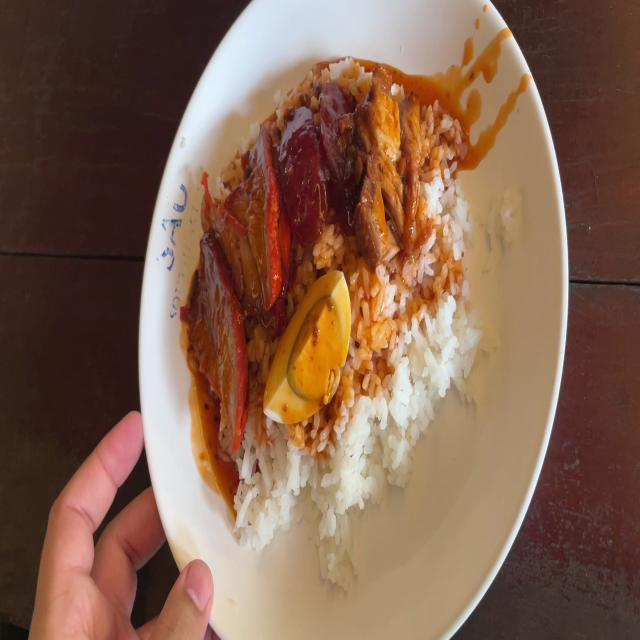red_pork_and_crispy_pork: (273, 272, 344, 424)
stir_fried_basil: (283, 82, 354, 236)
